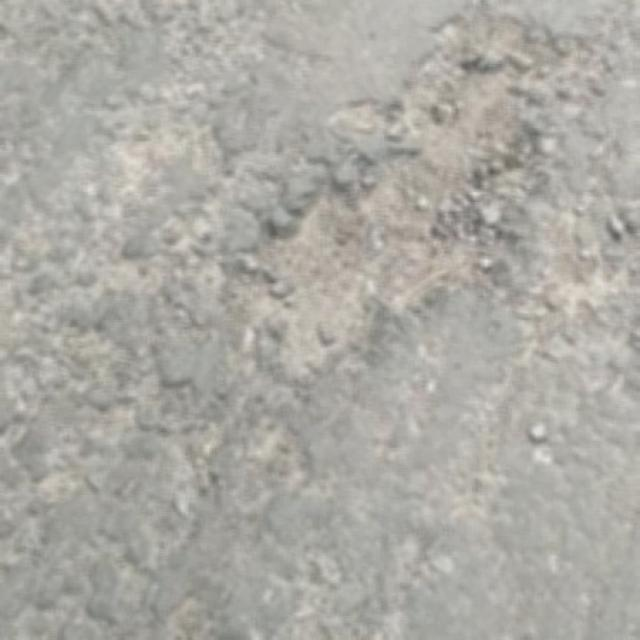road-pothole: (212, 0, 629, 400)
